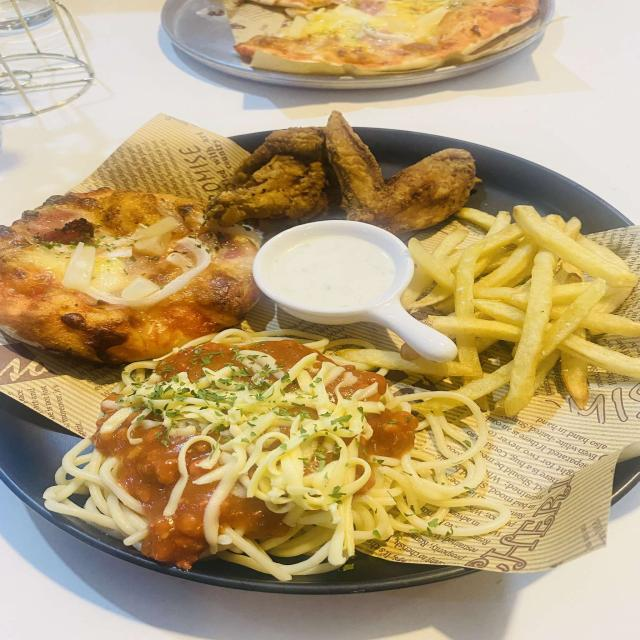Chicken -Fried Chicken-: (313, 98, 504, 260), (190, 125, 344, 228)
